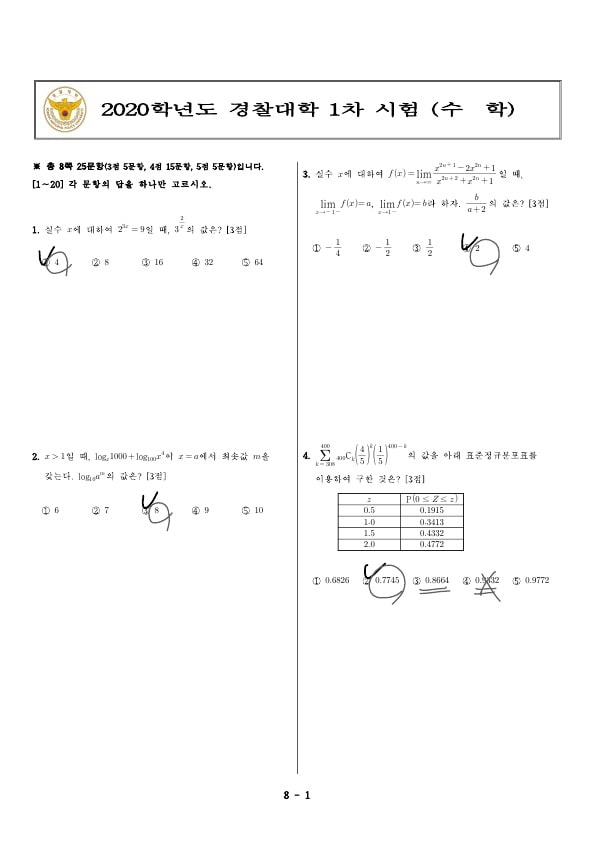question: (298, 439, 555, 607), (297, 159, 555, 278), (22, 444, 279, 533), (25, 212, 270, 279)
